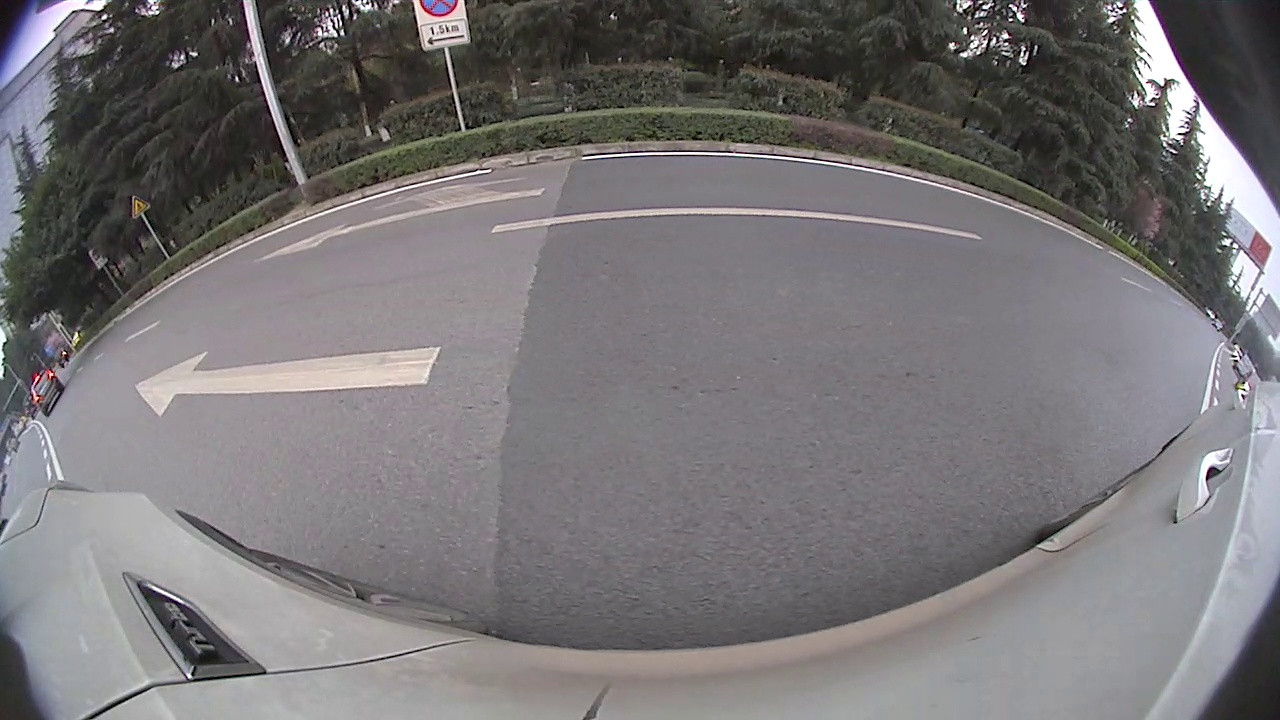car: (30, 365, 67, 417)
